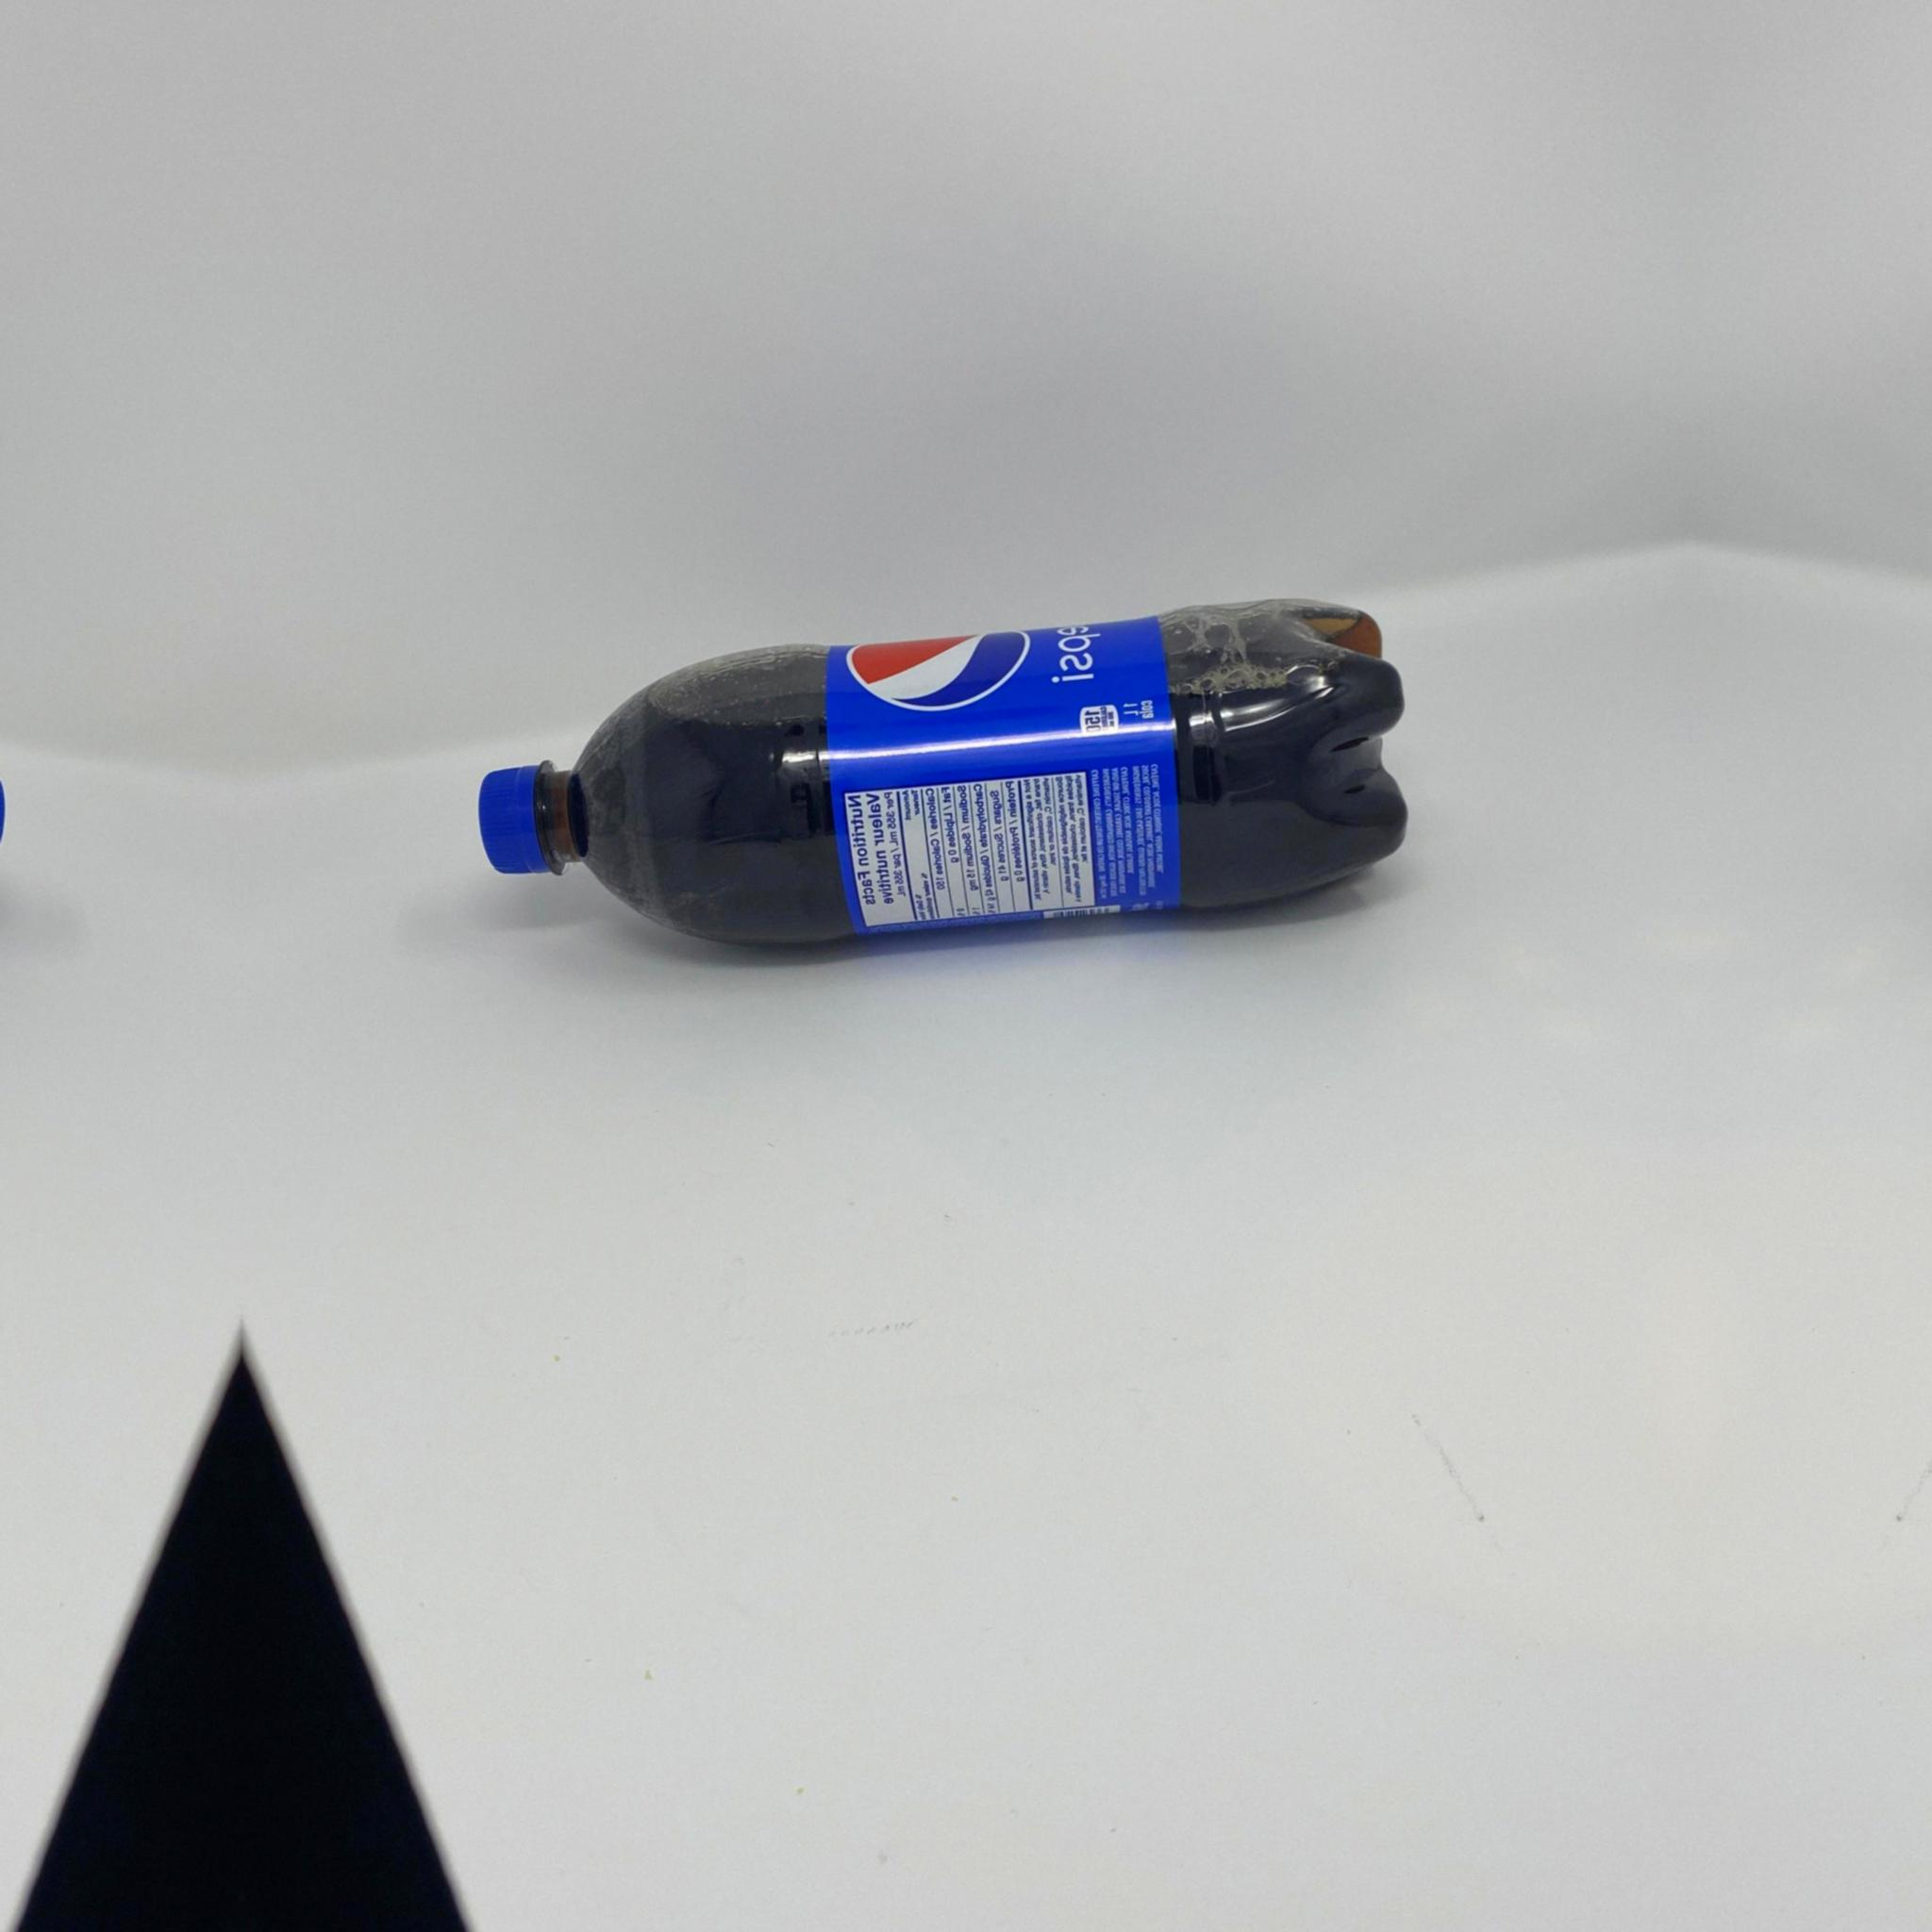PET: (478, 593, 1410, 948)
pepsi: (478, 593, 1410, 948)
plastic: (478, 593, 1410, 948)
soft-drink: (478, 593, 1410, 948)
